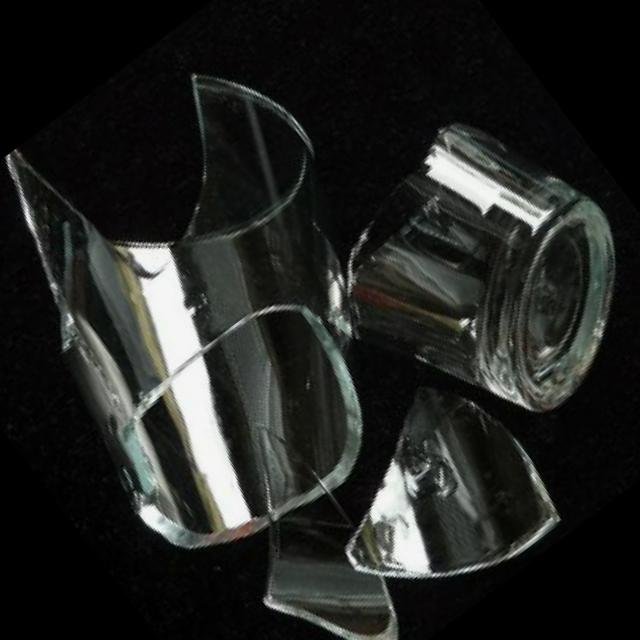PecahanKaca: (0, 0, 640, 640), (281, 74, 640, 481)
